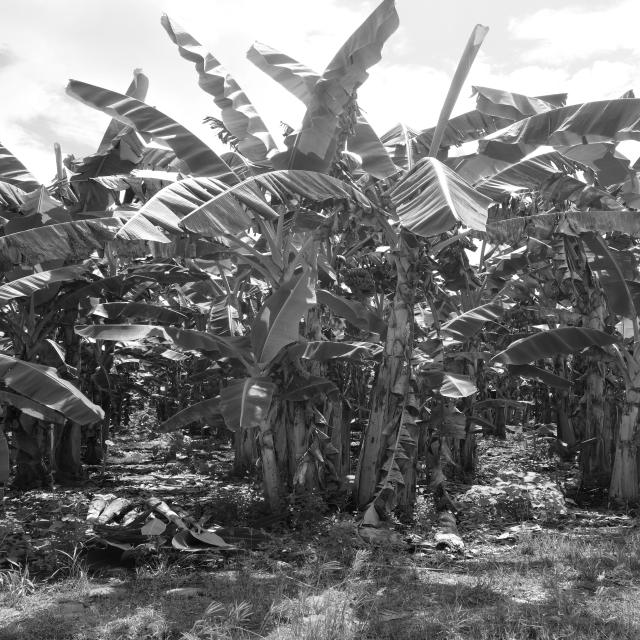Banana-plant: (355, 234, 427, 526)
